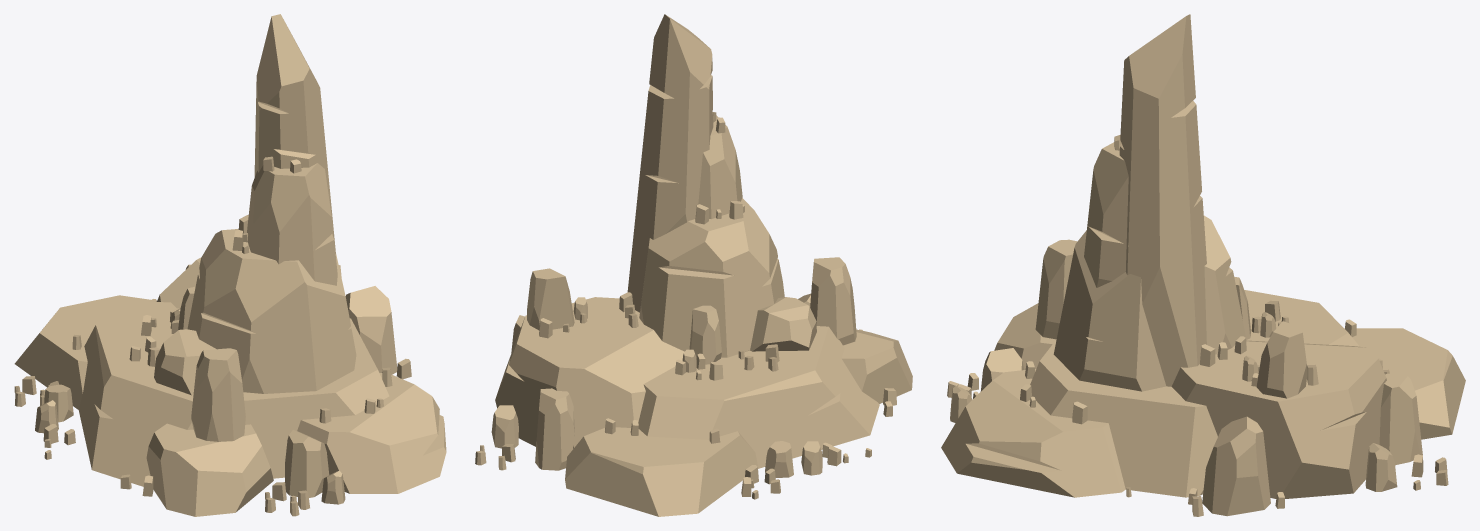
Rendered from roca3.glb.
3 renders of one model, left to right at view 1: azimuth 30°, elevation 25°; view 2: azimuth 150°, elevation 25°; view 3: azimuth 270°, elevation 25°, orthographic. The views are drawn at different scales.
Visible parts, largest first — view 1: big_rock_03_Cylinder_068; view 2: big_rock_03_Cylinder_068; view 3: big_rock_03_Cylinder_068.
Boxes of the visible parts, left/top/right/bottom form: big_rock_03_Cylinder_068: left=14, top=14, right=446, bottom=516; big_rock_03_Cylinder_068: left=475, top=14, right=912, bottom=516; big_rock_03_Cylinder_068: left=941, top=14, right=1465, bottom=516.
Bounding box in the file's own units: 3.17 × 3.35 × 3.7.
